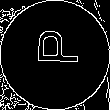P_W: (29, 36, 81, 74)
